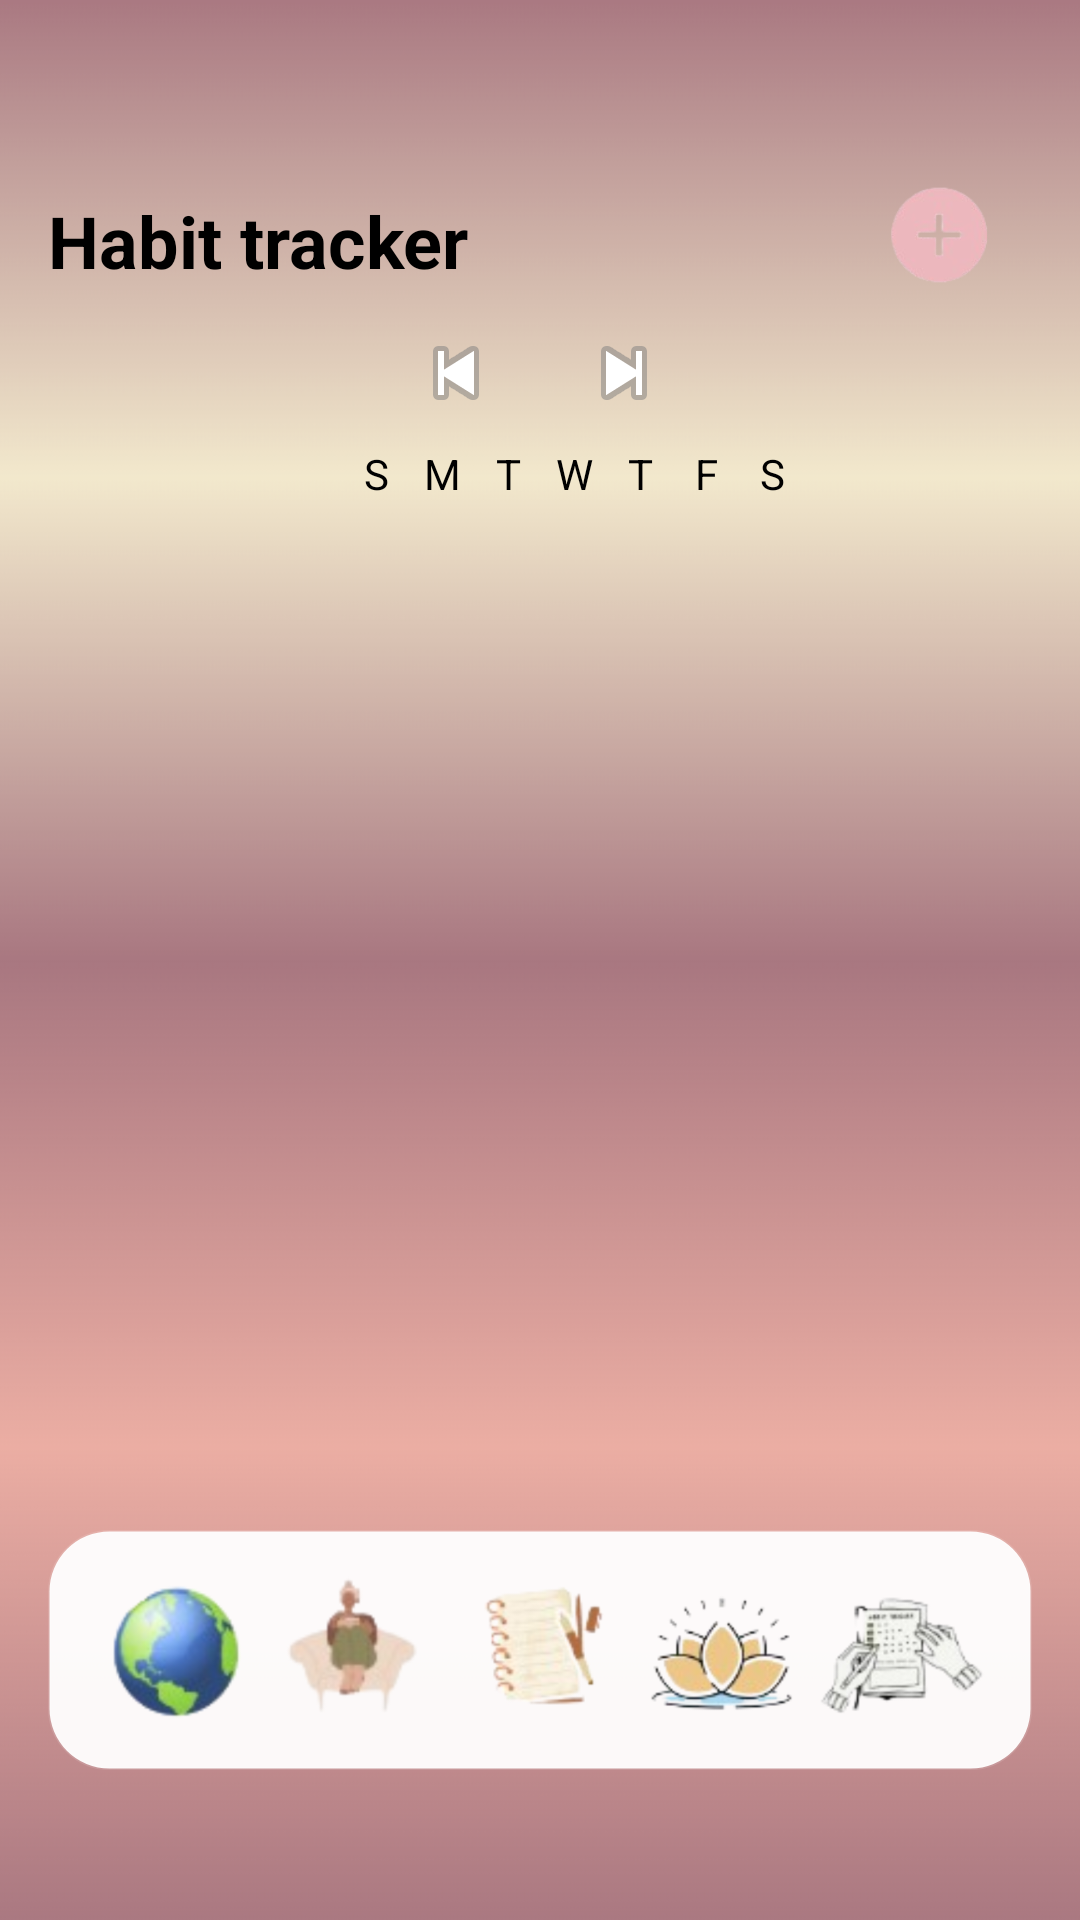

Icons on this 1080px×1920px Android screen, each with the point to tap as (x,y):
divertissement: (352,1644)
habits: (902,1655)
journal: (544,1646)
next: (624,373)
plus: (942,241)
previous: (456,373)
travels: (176,1651)
